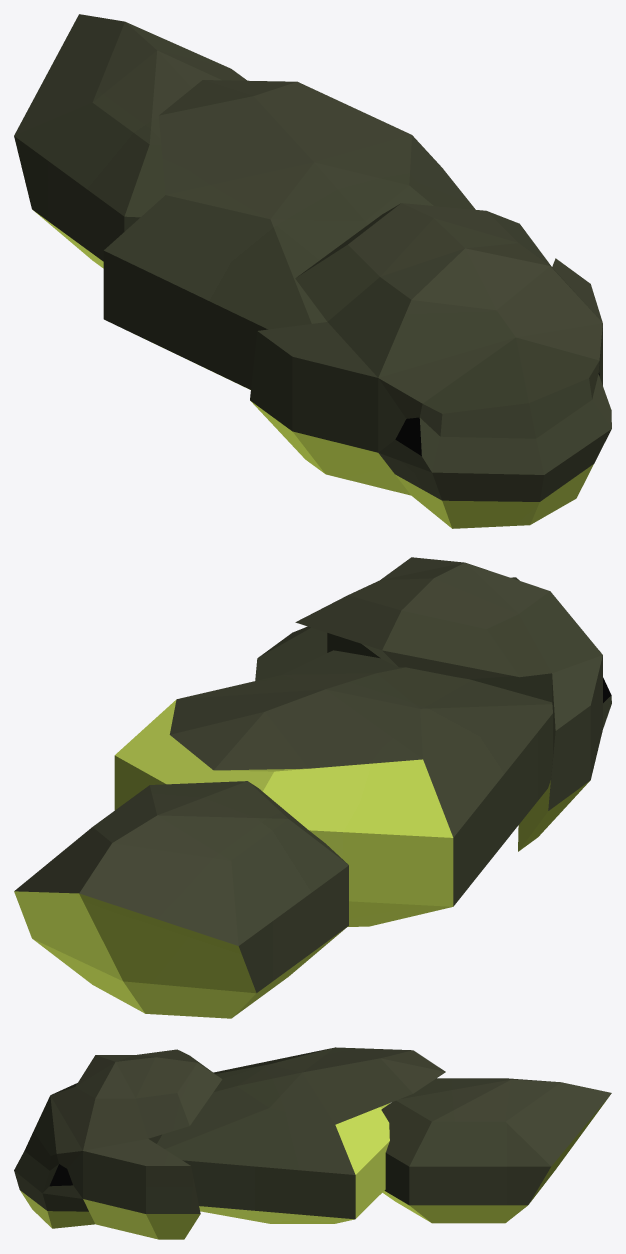
File: Critter_Bullchick.fbx
The picture shows the model from 3 angles, top to bottom: view 1: azimuth 30°, elevation 25°; view 2: azimuth 150°, elevation 25°; view 3: azimuth 270°, elevation 25°; orthographic projection. The views are drawn at different scales.
Parts seen in each view (by area): view 1: Head, Body, Tail; view 2: Body, Tail, Head; view 3: Body, Head, Tail.
Boxes of the visible parts, box(x1,y1,x2,y2) form: Head: box(250, 203, 611, 528); Body: box(103, 80, 475, 389); Tail: box(14, 14, 246, 268); Body: box(114, 650, 552, 926); Tail: box(14, 781, 348, 1018); Head: box(255, 557, 611, 851); Body: box(157, 1047, 445, 1223); Head: box(14, 1049, 222, 1239); Tail: box(381, 1078, 611, 1223).
Bounding box in the file's own units: 75.64 × 53.19 × 180.
